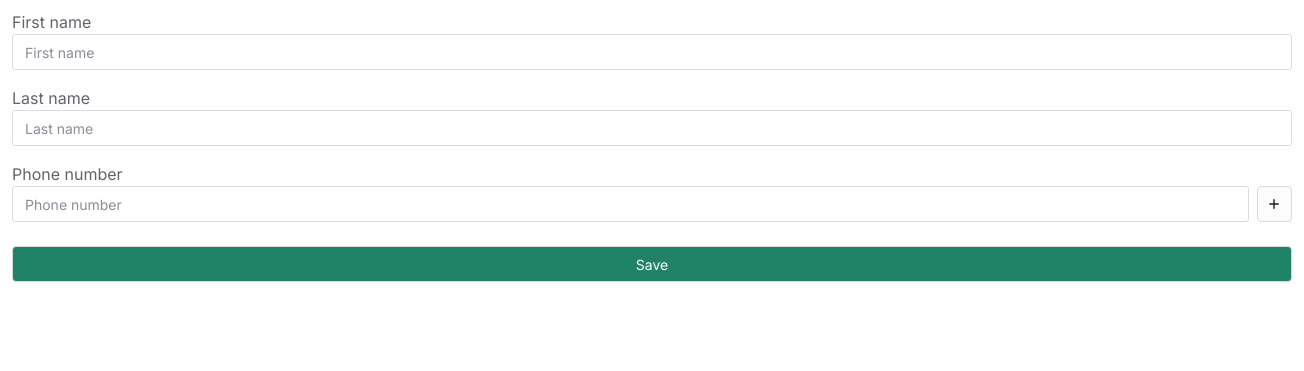
Test: add contact form › should show error when input is empty
Click the button with test id "submit-create-contact" at [652, 264], box [12,246,1292,282]
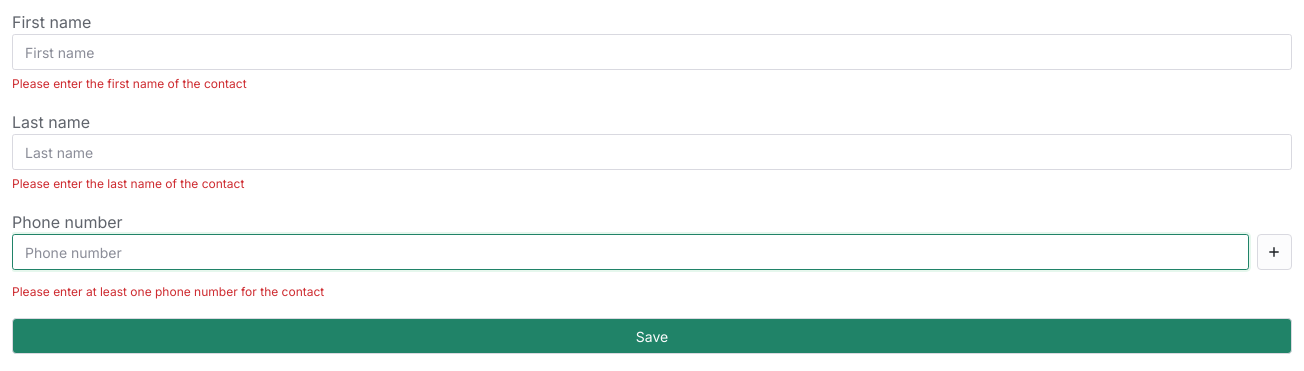
Check: the field labelled "First name" is empty, box [12,34,1292,70]
Check: the number of messages is 3, box [12,76,247,91]; [12,176,244,191]; [12,284,324,299]
